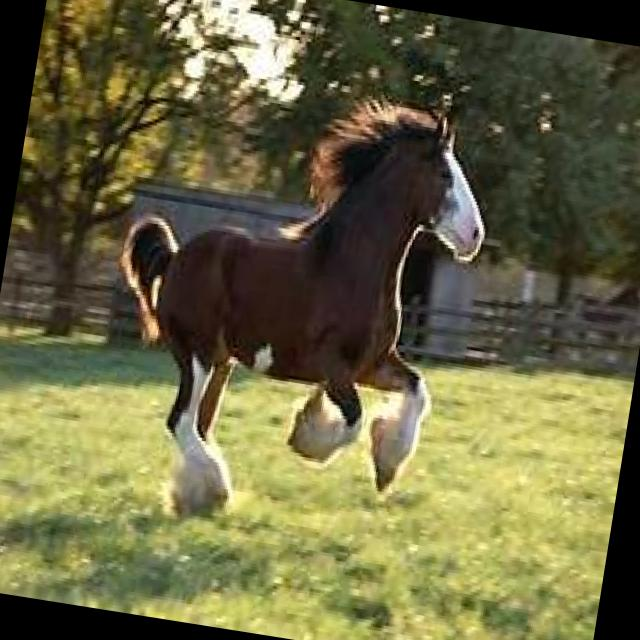animal: (53, 20, 541, 572)
